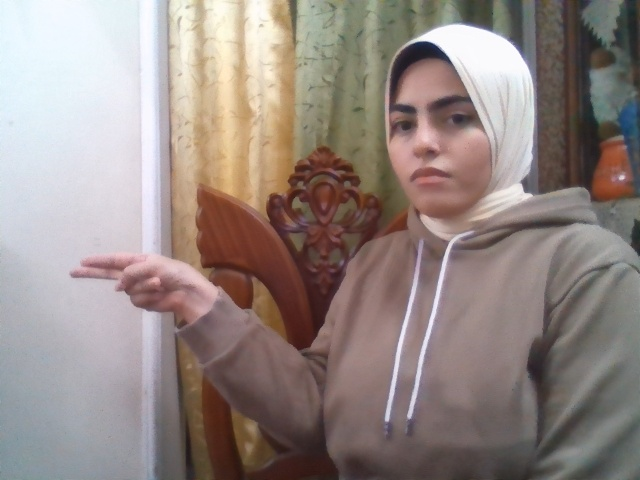H: (69, 252, 193, 315)
